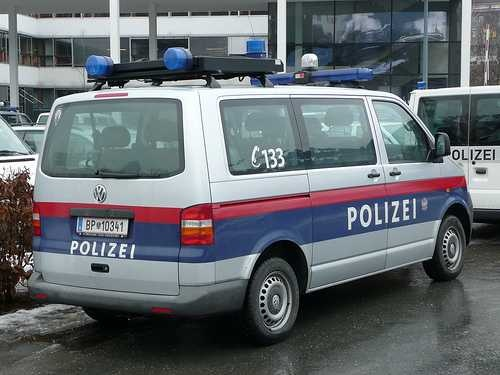Police Van: (8, 53, 483, 337)
